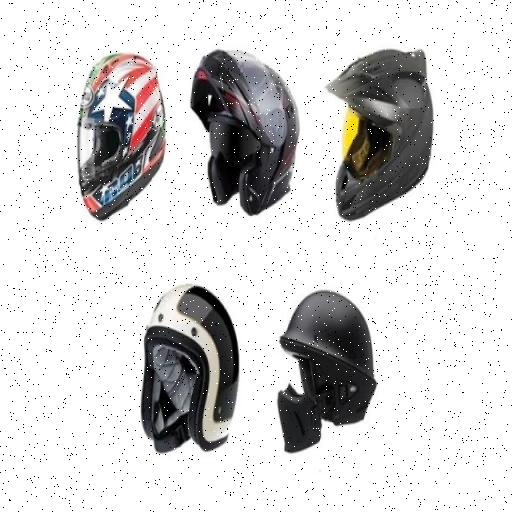Helmet: (328, 50, 432, 219), (192, 51, 299, 214), (142, 286, 238, 451), (278, 292, 375, 451), (79, 54, 164, 219)
